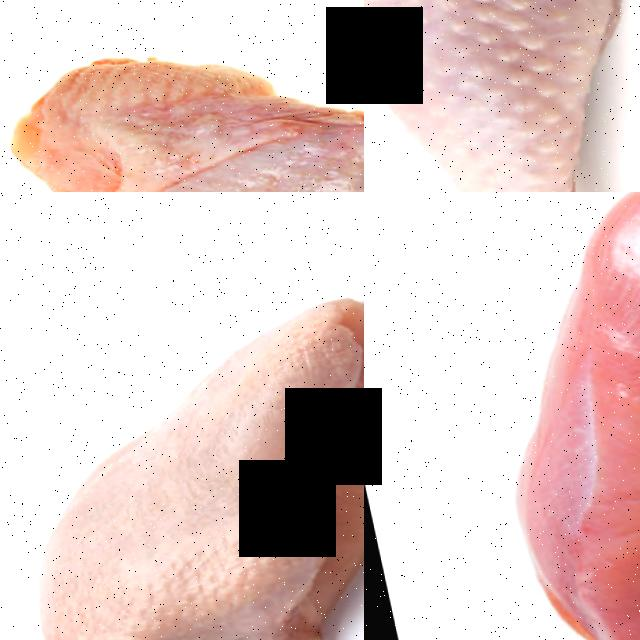chicken breast: (0, 254, 364, 640), (402, 192, 640, 640)
chicken thigh: (364, 0, 640, 192)
chicken wing: (0, 0, 364, 192)
